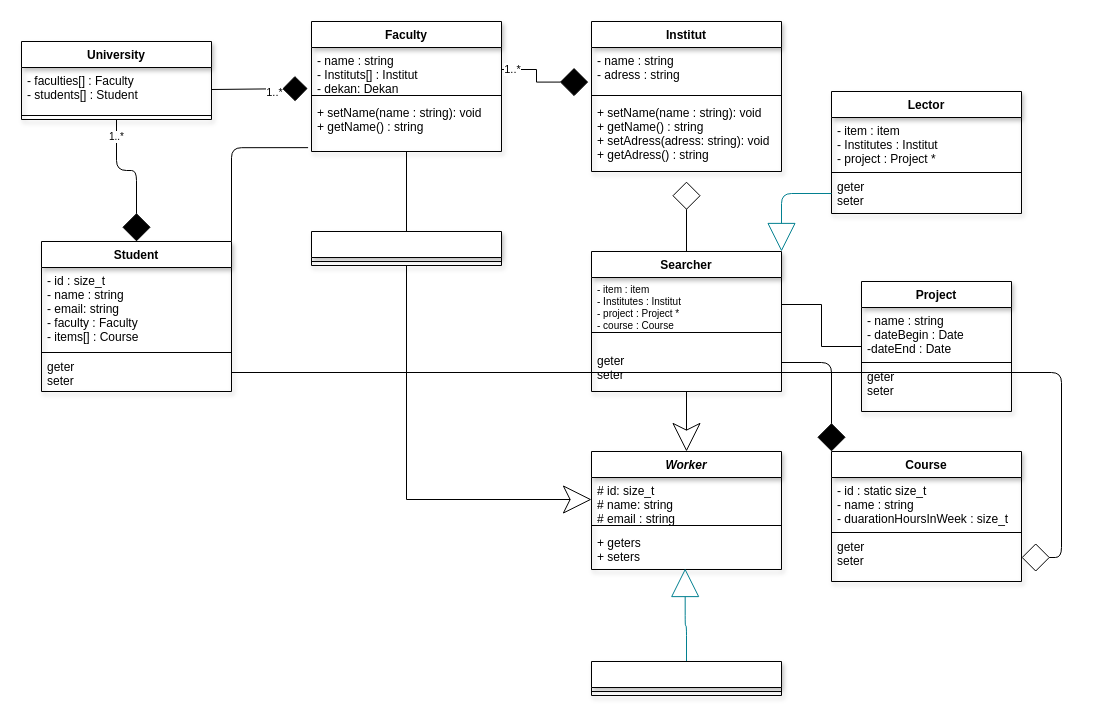
Some shapes in this 1107 by 720 pixel diagram are drawn without their labels. The shapes that lost their labels are listed below. From the top down, each one's centre as x and y in pixels, then its label:
the point at 407,249: Dekan
the point at 687,679: Administrator
